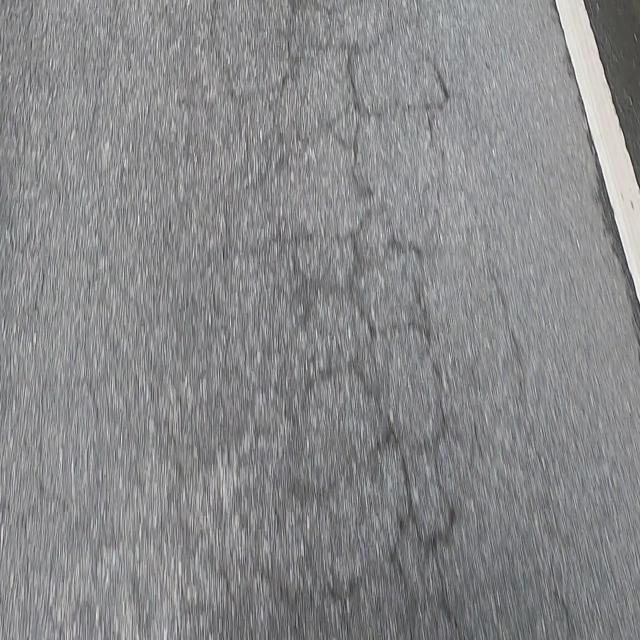Retak-Buaya: (275, 0, 460, 633)
